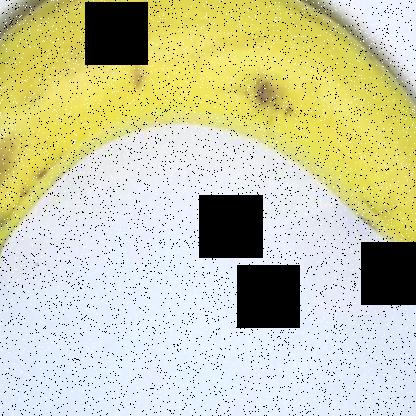freshripe: (1, 1, 415, 290)
